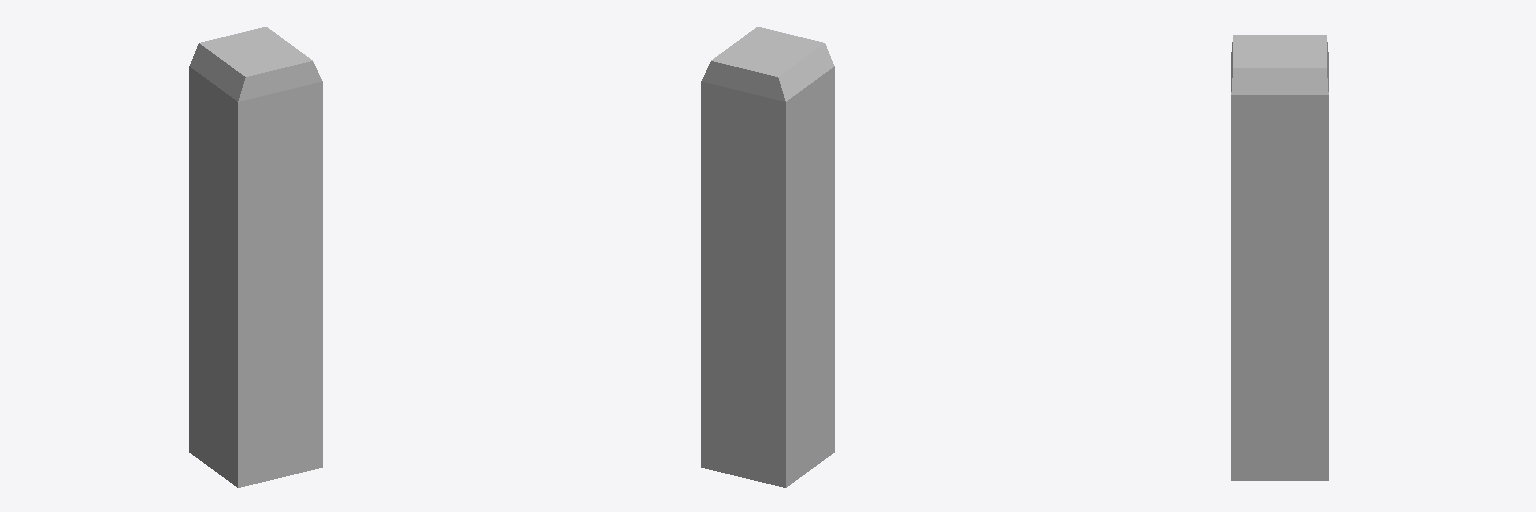
The model's file is SkyScraper1.obj.
The picture shows the model from 3 angles: view 1: azimuth 30°, elevation 25°; view 2: azimuth 150°, elevation 25°; view 3: azimuth 270°, elevation 25°; orthographic projection.
Visible parts, largest first — view 1: Skyscraper1_Plane.006; view 2: Skyscraper1_Plane.006; view 3: Skyscraper1_Plane.006.
Part boxes in pixels (bbox=[...]): Skyscraper1_Plane.006: bbox=[189, 27, 322, 487]; Skyscraper1_Plane.006: bbox=[701, 27, 834, 487]; Skyscraper1_Plane.006: bbox=[1231, 35, 1328, 480].
Size of the model in its own units: 8 by 37 by 8.